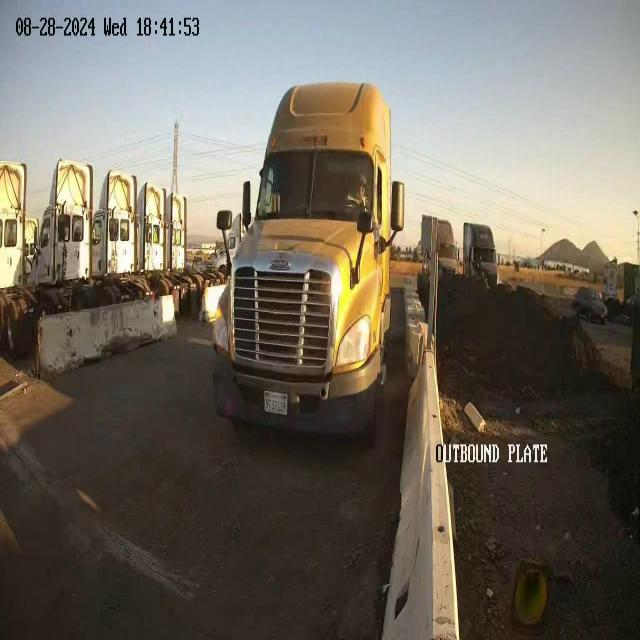TRUCK_OUT: (211, 80, 405, 442)
